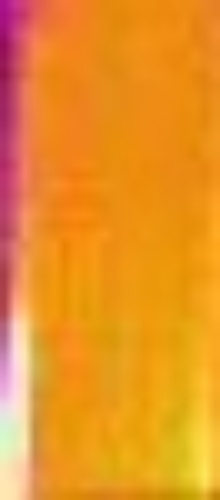Diode: (1, 295, 37, 499)
